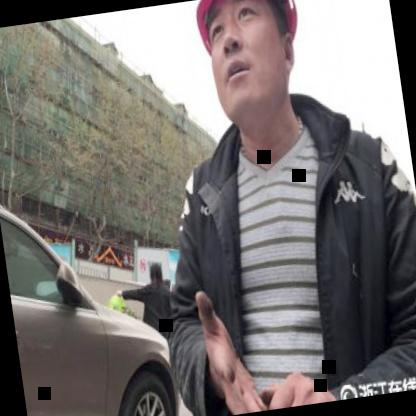helmet: (190, 0, 313, 127)
